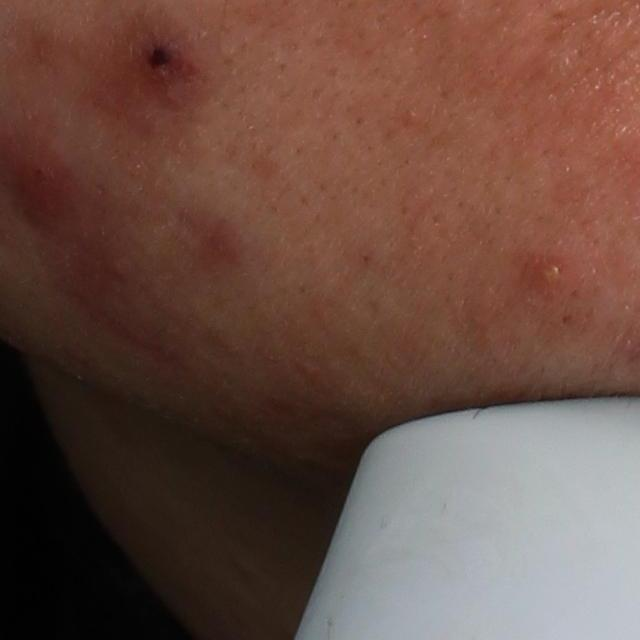papule: (132, 31, 192, 91)
pustule: (524, 254, 569, 294)
